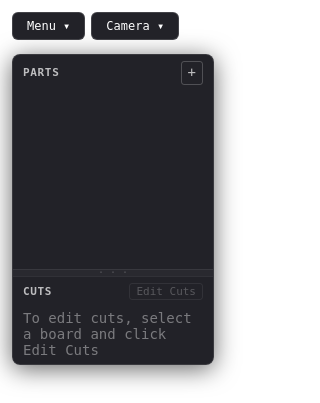
Scenario: Axes toggle button › is present in menu dropdown after opening
Click the button with id "menu-btn".
click(49, 26)  # box [12,12,85,40]
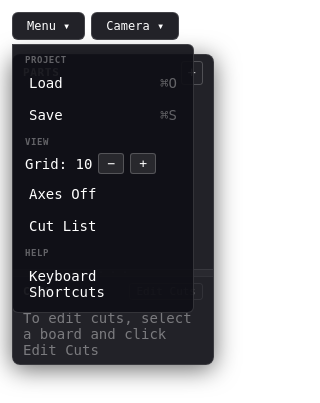
expect the element with id "menu-dropdown" shows "Axes": met, box [13,178,193,210]
